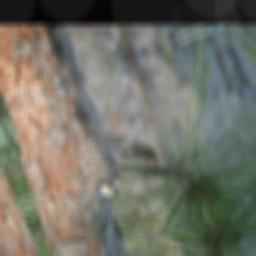Woodpecker: (48, 86, 133, 211)
